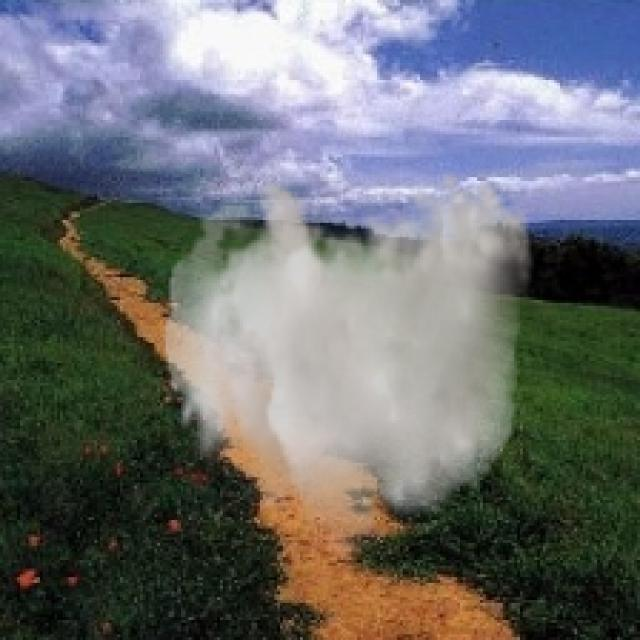smoke: (163, 166, 534, 568)
